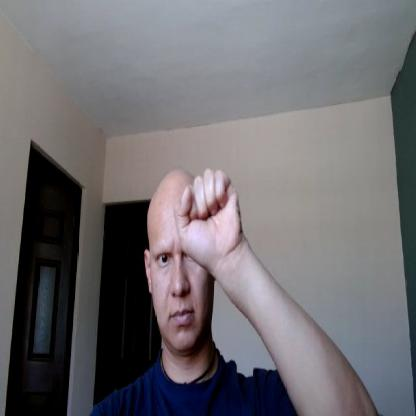S: (176, 170, 244, 263)
